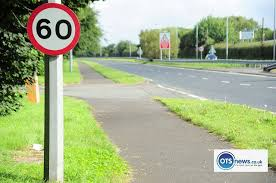Speed_limit_60km: (27, 3, 81, 55)
